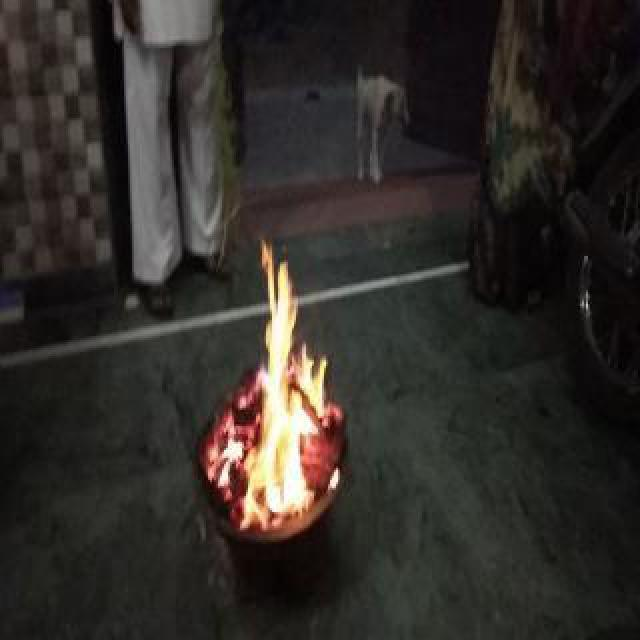Fire: (208, 242, 342, 524)
